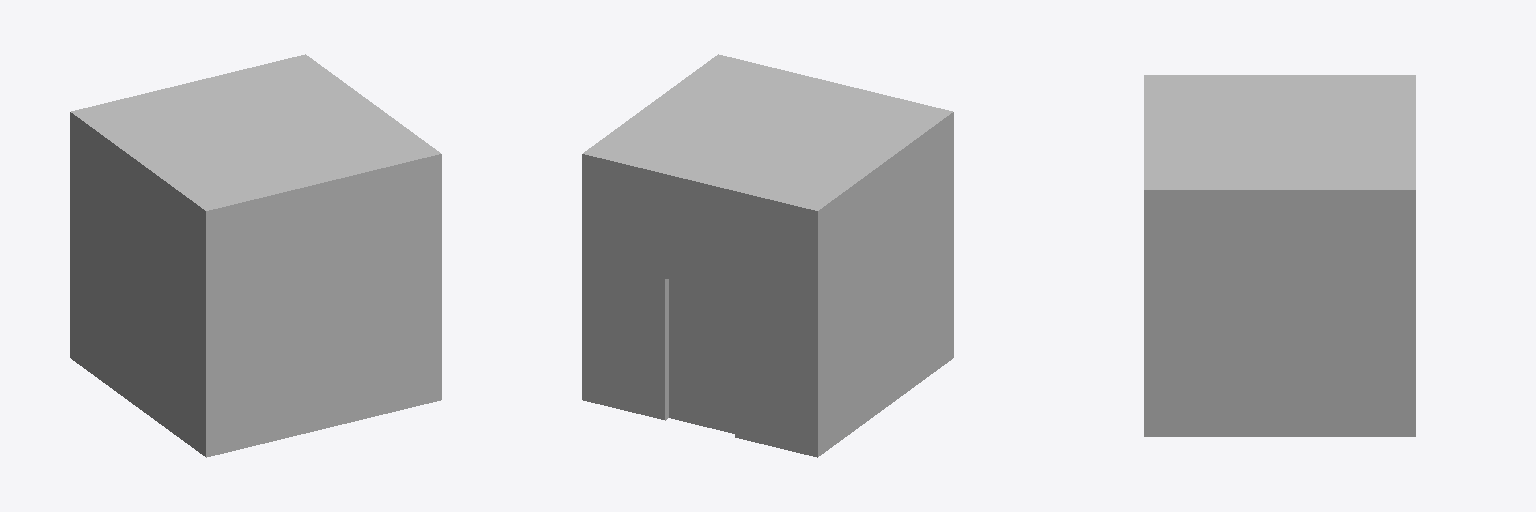
The model's file is wall-a-door.obj.
3 renders of one model, left to right at view 1: azimuth 30°, elevation 25°; view 2: azimuth 150°, elevation 25°; view 3: azimuth 270°, elevation 25°, orthographic.
Visible parts, largest first — view 1: wall-a-door; view 2: wall-a-door; view 3: wall-a-door.
Part boxes in pixels (left/top/right/bottom): wall-a-door: left=70, top=54, right=441, bottom=457; wall-a-door: left=582, top=54, right=953, bottom=457; wall-a-door: left=1144, top=75, right=1415, bottom=436.
Bounding box in the file's own units: 1 × 1 × 1.